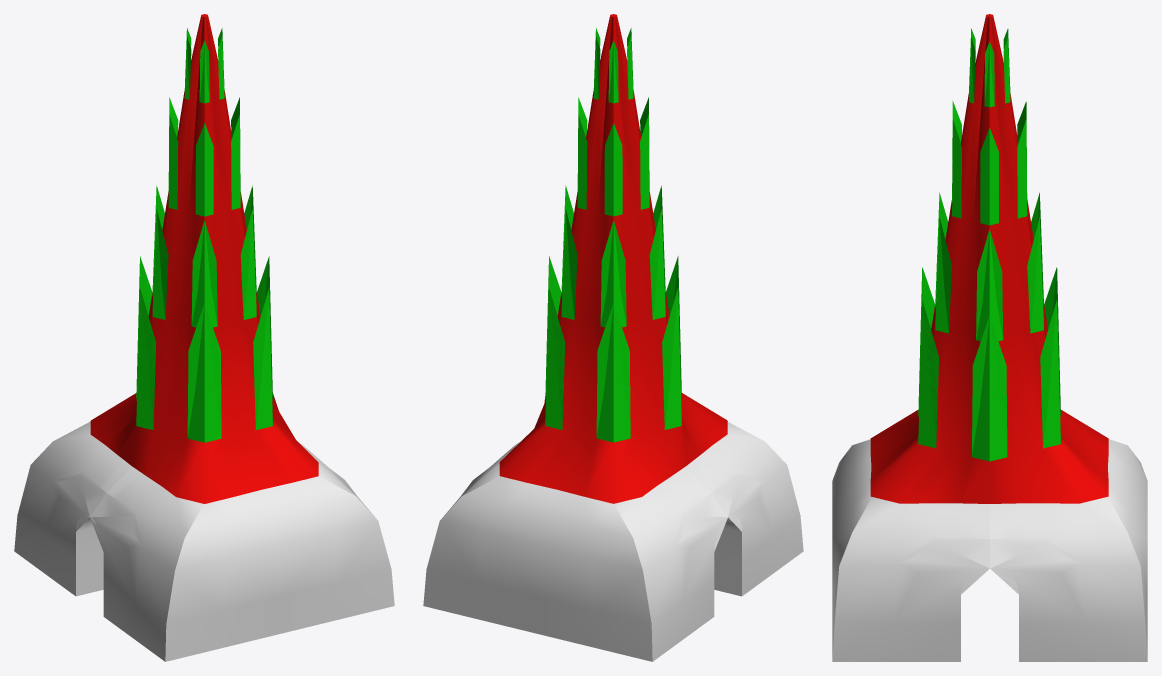
Rendered from sPIRE 1.fbx.
3 views of the same model, side by side, from view 1: azimuth 30°, elevation 25°; view 2: azimuth 150°, elevation 25°; view 3: azimuth 270°, elevation 25° (orthographic). The views are drawn at different scales.
Parts seen in each view (by area): view 1: Cube, Cylinder; view 2: Cube, Cylinder; view 3: Cylinder, Cube.
Boxes of the visible parts, left/top/right/bottom form: Cube: left=14, top=421, right=394, bottom=661; Cylinder: left=90, top=14, right=318, bottom=503; Cube: left=423, top=422, right=803, bottom=661; Cylinder: left=499, top=14, right=727, bottom=503; Cylinder: left=870, top=14, right=1108, bottom=503; Cube: left=832, top=439, right=1147, bottom=661.
Size of the model in its own units: 1247 by 2925 by 1423.
